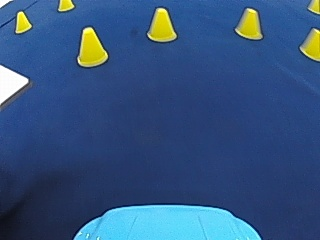cone: (76, 25, 108, 66), (146, 7, 177, 41), (234, 7, 263, 40), (299, 27, 320, 60), (14, 10, 31, 33), (57, 0, 73, 11), (307, 0, 319, 13)
